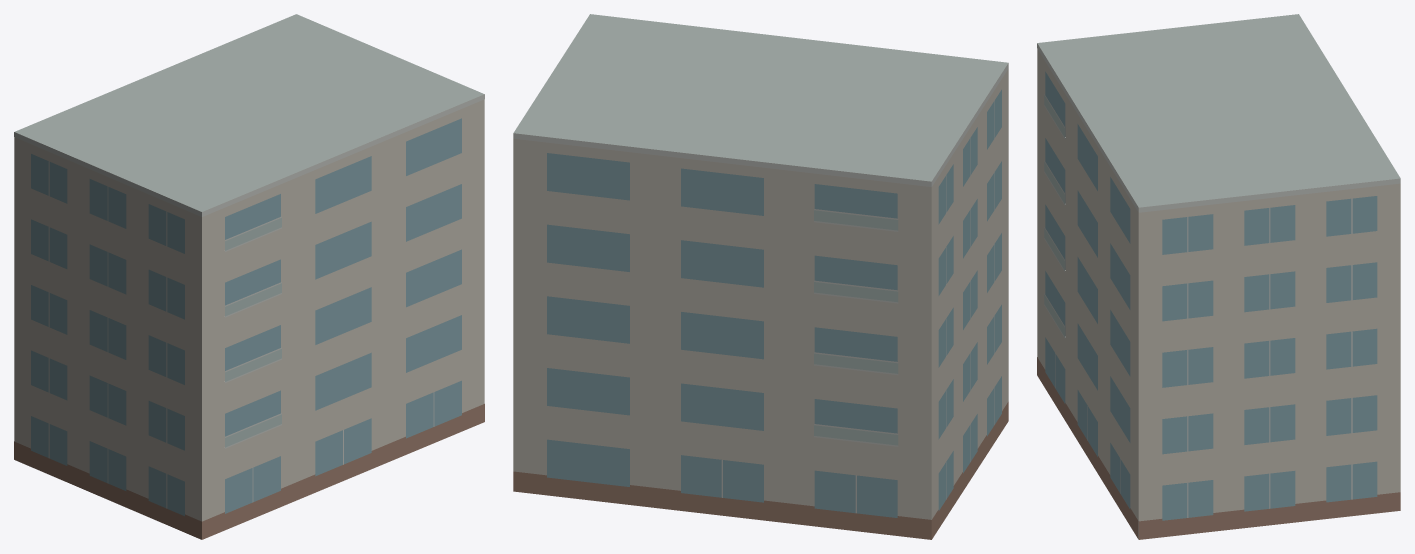
Rendered from survey-upis-32651754.glb.
3 renders of one model, left to right at view 1: azimuth 30°, elevation 25°; view 2: azimuth 150°, elevation 25°; view 3: azimuth 270°, elevation 25°, orthographic. The views are drawn at different scales.
Parts seen in each view (by area): view 1: survey-upis-32651754.tmp; view 2: survey-upis-32651754.tmp; view 3: survey-upis-32651754.tmp.
Part boxes in pixels (x1=…): survey-upis-32651754.tmp: x1=14, y1=14, x2=484, y2=539; survey-upis-32651754.tmp: x1=513, y1=14, x2=1008, y2=539; survey-upis-32651754.tmp: x1=1037, y1=14, x2=1400, y2=539.
Size of the model in its own units: 19.76 by 15.8 by 15.68.
